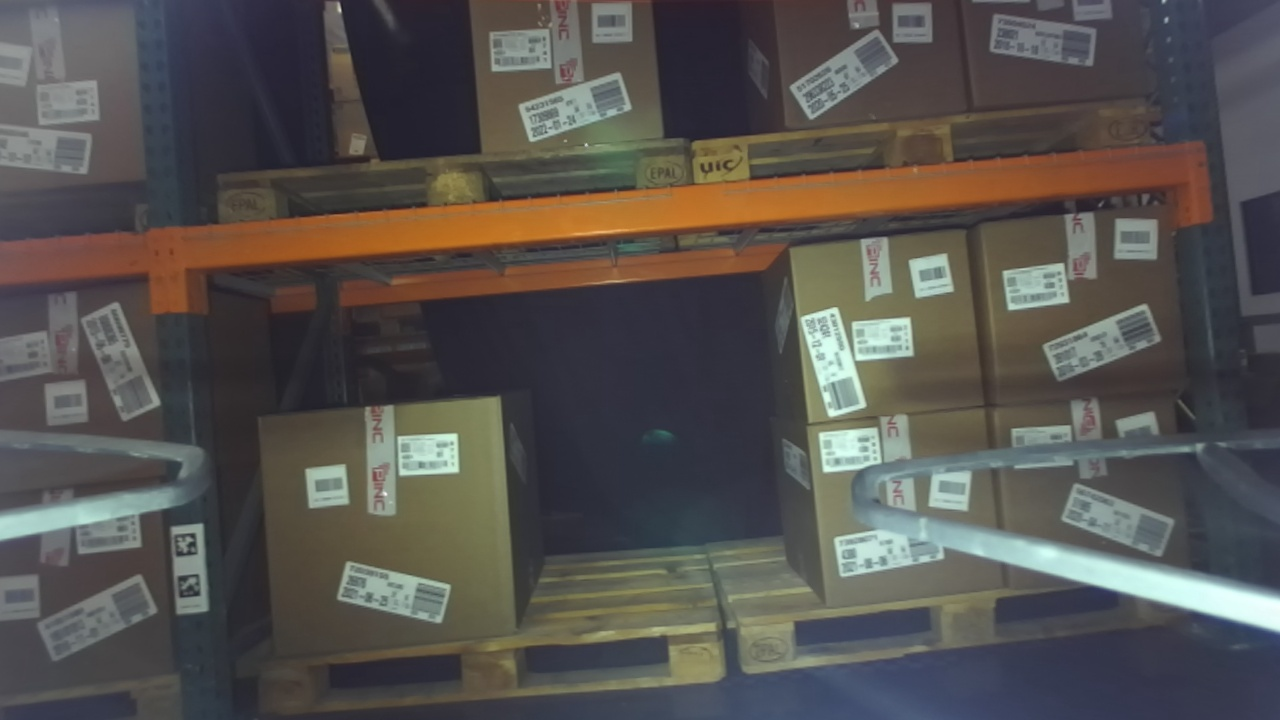box: (238, 385, 540, 664), (952, 184, 1208, 421), (780, 395, 1037, 631), (971, 378, 1209, 622), (764, 214, 997, 440), (1, 463, 204, 714), (1, 280, 189, 503), (450, 1, 685, 168), (1, 4, 165, 204)
